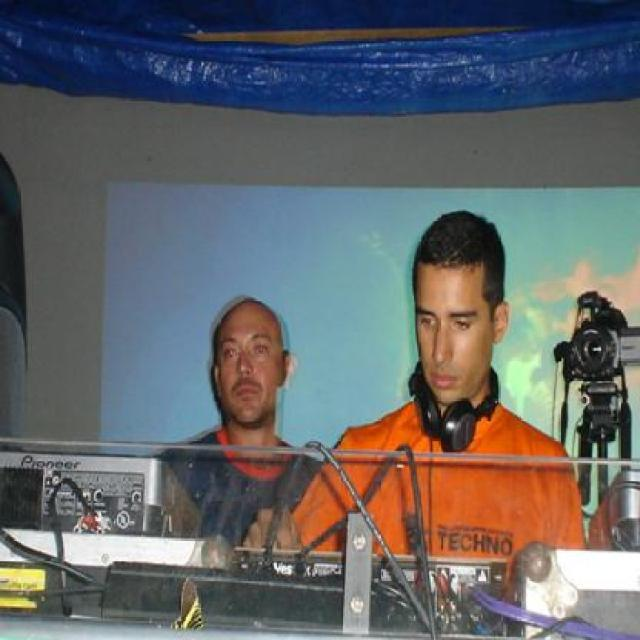earphone: (408, 340, 507, 442)
